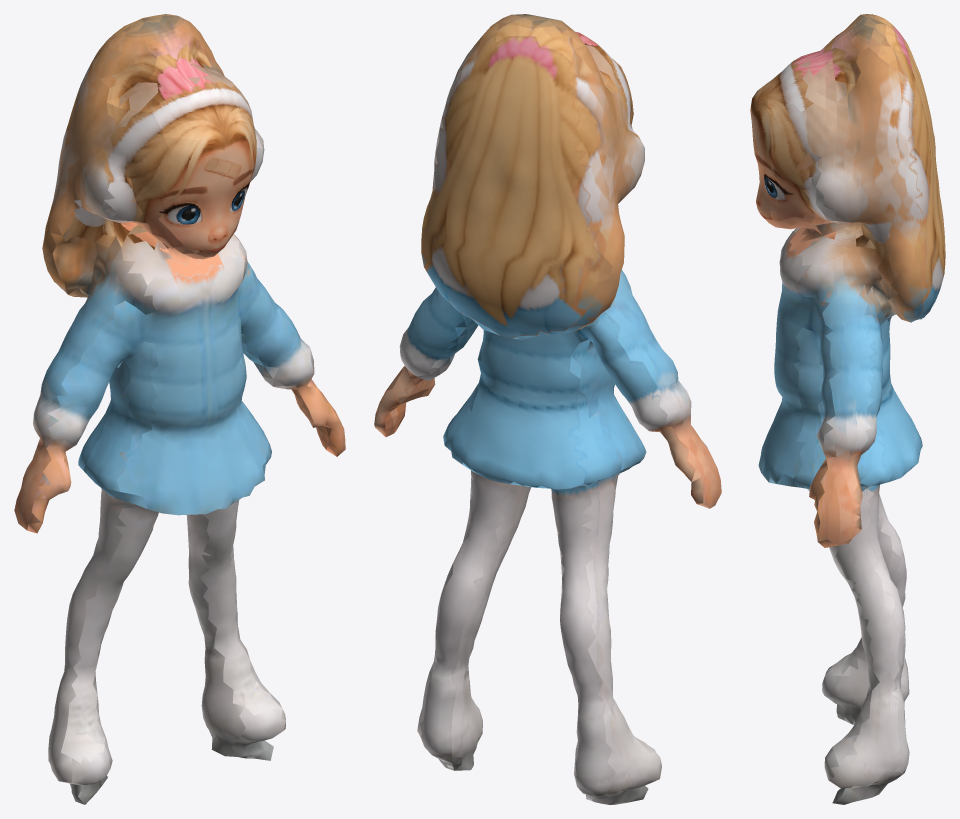
Rendered from skater-patch-toon-x5.glb.
The picture shows the model from 3 angles, left to right: view 1: azimuth 30°, elevation 25°; view 2: azimuth 150°, elevation 25°; view 3: azimuth 270°, elevation 25°; orthographic projection. The views are drawn at different scales.
Visible parts, largest first — view 1: world; view 2: world; view 3: world.
Part boxes in pixels (x1,y1,x2,y2): world: [14, 14, 345, 804]; world: [374, 14, 721, 804]; world: [750, 14, 945, 804].
Size of the model in its own units: 2.16 by 4.83 by 1.16.
Materials: 1 (1 with a texture image).
